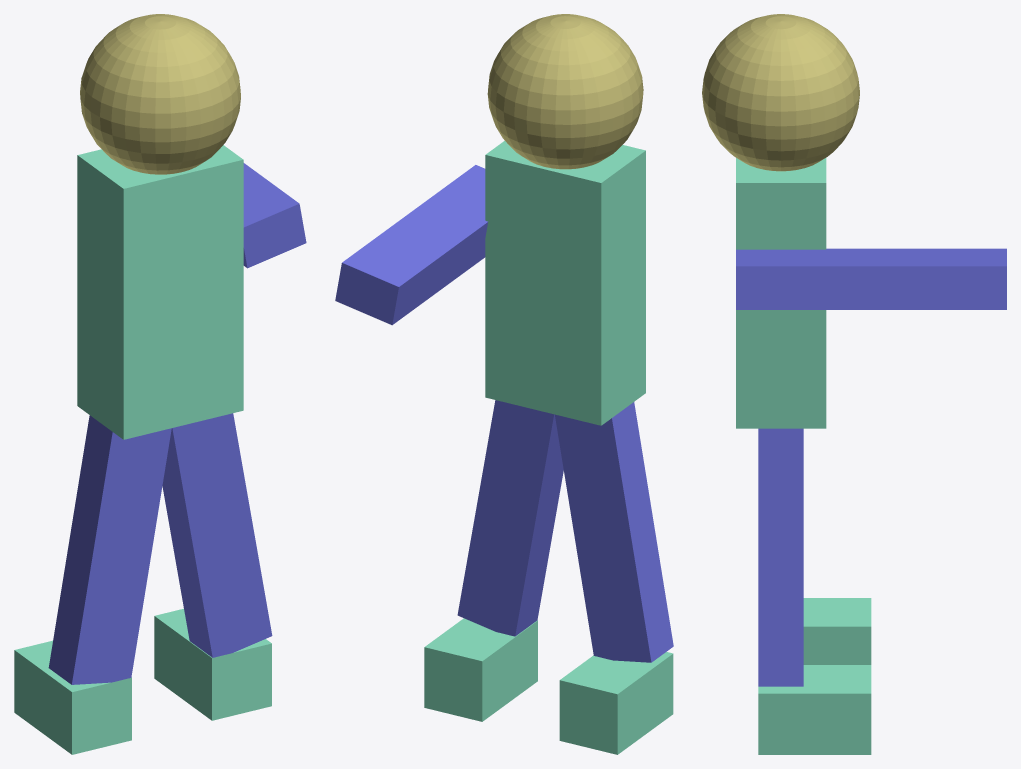
File: character1.glb
3 views of the same model, side by side, from view 1: azimuth 30°, elevation 25°; view 2: azimuth 150°, elevation 25°; view 3: azimuth 270°, elevation 25° (orthographic). The views are drawn at different scales.
Parts seen in each view (by area): view 1: Cube, Cube.001, Sphere, Cube.002, Cube.003, Cube.004, Cube.005; view 2: Cube, Cube.001, Sphere, Cube.002, Cube.005, Cube.003, Cube.004; view 3: Sphere, Cube, Cube.005, Cube.002, Cube.004, Cube.003.
Part boxes in pixels (x1,y1,x2,y2): Cube: (77, 145, 243, 439); Cube.001: (48, 415, 171, 684); Sphere: (80, 14, 240, 174); Cube.002: (162, 413, 272, 657); Cube.003: (14, 640, 131, 754); Cube.004: (154, 608, 271, 720); Cube.005: (243, 163, 306, 268); Cube: (485, 141, 645, 425); Cube.001: (555, 402, 673, 662); Sphere: (487, 14, 643, 169); Cube.002: (457, 400, 563, 636); Cube.005: (335, 165, 487, 325); Cube.003: (559, 652, 673, 754); Cube.004: (424, 618, 537, 721); Sphere: (702, 14, 859, 171); Cube: (736, 158, 826, 428); Cube.005: (736, 248, 1006, 309); Cube.002: (758, 428, 803, 686); Cube.004: (758, 665, 871, 754); Cube.003: (803, 598, 871, 664).
Bounding box in the file's own units: 1.12 × 3.35 × 1.35.
